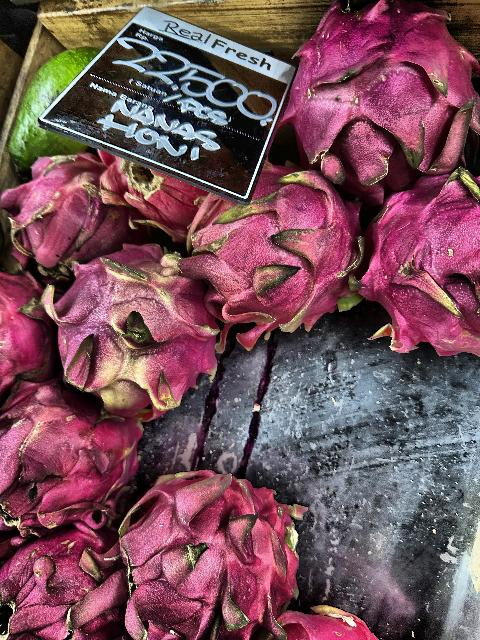buah-naga-belum-matang: (50, 262, 222, 406)
buah-naga-matang: (284, 3, 480, 189), (108, 466, 304, 640), (180, 179, 362, 331), (354, 177, 480, 361), (0, 379, 140, 529), (0, 530, 138, 640), (0, 149, 130, 265), (93, 144, 207, 238), (0, 267, 58, 388)
